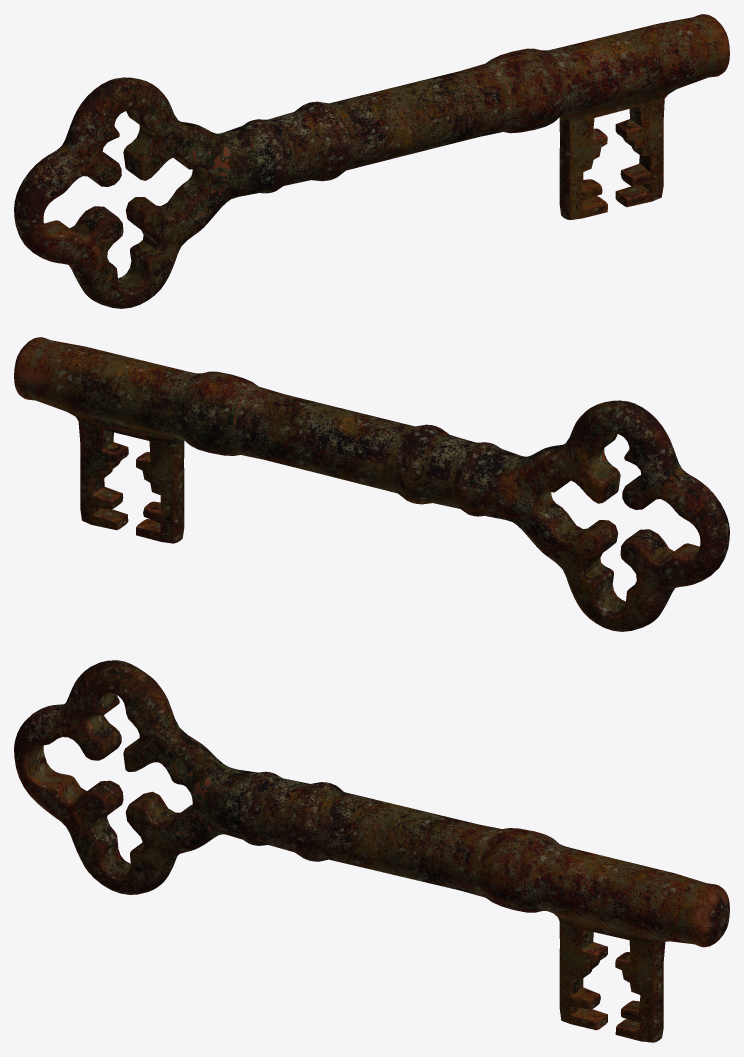
The picture shows the model from 3 angles, top to bottom: view 1: azimuth 30°, elevation 25°; view 2: azimuth 150°, elevation 25°; view 3: azimuth 330°, elevation 25°; orthographic projection.
Visible parts, largest first — view 1: old key medium; view 2: old key medium; view 3: old key medium.
Boxes of the visible parts, x1,y1,x2,y2 form: old key medium: [14, 14, 729, 308]; old key medium: [14, 337, 729, 631]; old key medium: [14, 660, 729, 1042].
Bounding box in the file's own units: 4.07 × 1.36 × 0.4044.
Materials: 1 (1 with a texture image).
